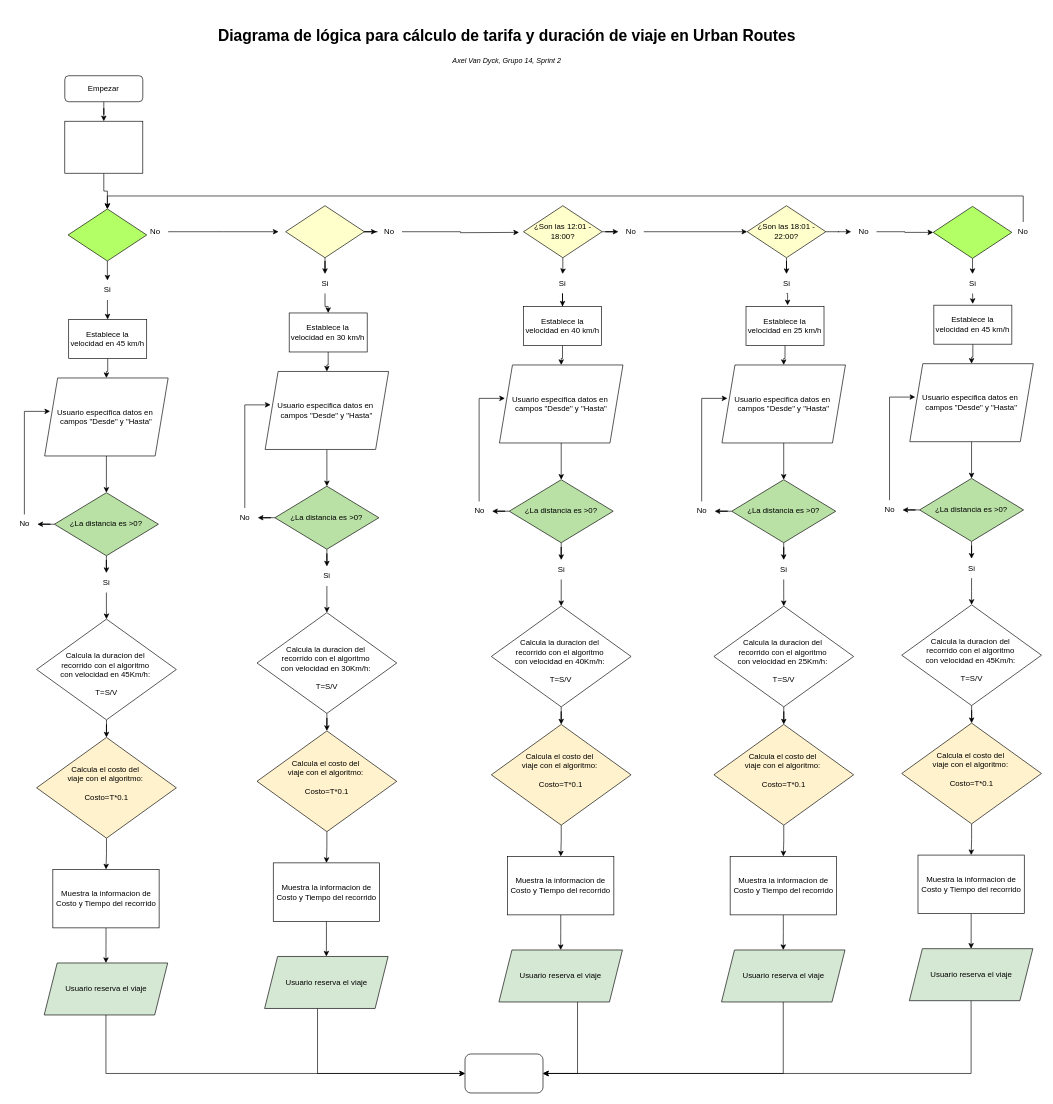
This 1053x1104 diagram has some shape labels left out. Here are the shapes that lost their labels. From the top down, the centre of each, then its label:
pixel 103 147: Elegir opcion "Compartir un automovil" para solicitar un viaje
pixel 107 234: ¿Son las 00:01 - 08:00?
pixel 324 231: ¿Son las 08:01 - 12:00?
pixel 972 232: ¿Son las 22:01 - 00:00?
pixel 503 1073: FIN
